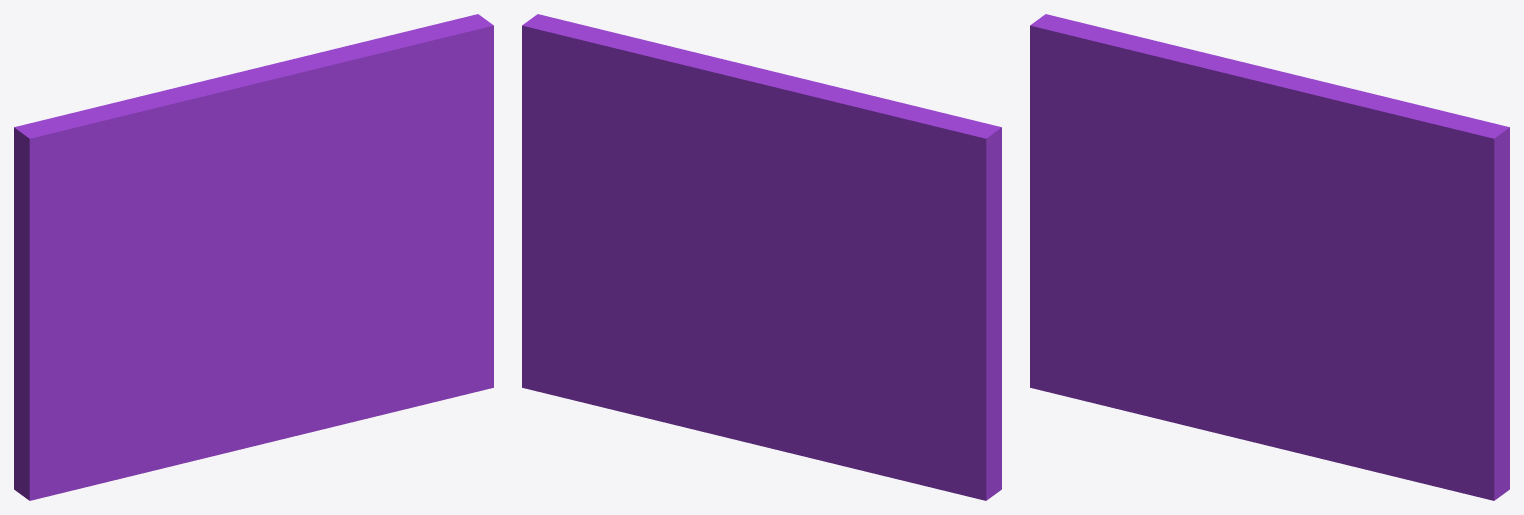
Rendered from Barrier_24_chunks.fbx.
The picture shows the model from 3 angles, left to right: view 1: azimuth 30°, elevation 25°; view 2: azimuth 150°, elevation 25°; view 3: azimuth 330°, elevation 25°; orthographic projection.
Parts seen in each view (by area): view 1: Barrier_24_0, Barrier_24_2, Barrier_24_5, Barrier_24_6, Barrier_24_4, Barrier_24_3, Barrier_24_1; view 2: Barrier_24_2, Barrier_24_0, Barrier_24_5, Barrier_24_1, Barrier_24_6, Barrier_24_4; view 3: Barrier_24_0, Barrier_24_2, Barrier_24_5, Barrier_24_6, Barrier_24_4, Barrier_24_3, Barrier_24_1.
Part boxes in pixels (x1,y1,x2,y2): Barrier_24_0: (14, 115, 267, 500); Barrier_24_2: (192, 193, 493, 461); Barrier_24_5: (335, 14, 493, 233); Barrier_24_6: (124, 44, 370, 182); Barrier_24_4: (190, 164, 363, 263); Barrier_24_3: (279, 123, 335, 183); Barrier_24_1: (14, 96, 141, 160); Barrier_24_2: (522, 187, 838, 464); Barrier_24_0: (779, 104, 1001, 500); Barrier_24_5: (522, 14, 695, 228); Barrier_24_1: (739, 104, 990, 310); Barrier_24_6: (644, 44, 905, 176); Barrier_24_4: (654, 155, 802, 255); Barrier_24_0: (1030, 17, 1268, 426); Barrier_24_2: (1192, 267, 1509, 500); Barrier_24_5: (1335, 97, 1509, 306); Barrier_24_6: (1126, 45, 1386, 171); Barrier_24_4: (1190, 147, 1363, 283); Barrier_24_3: (1279, 159, 1335, 218); Barrier_24_1: (1042, 14, 1173, 47).
Bounding box in the file's own units: 381 × 284 × 22.39.
